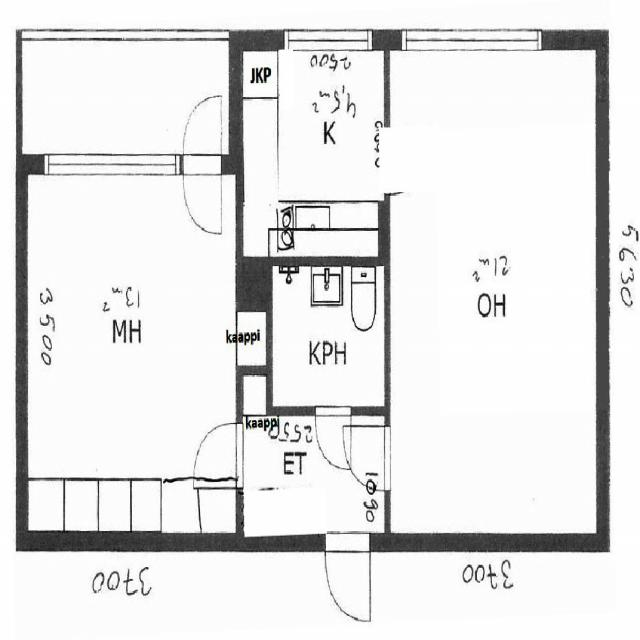door: (325, 531, 370, 621), (183, 95, 221, 175), (183, 154, 221, 234), (342, 428, 390, 491), (198, 418, 242, 477), (314, 407, 350, 472)
